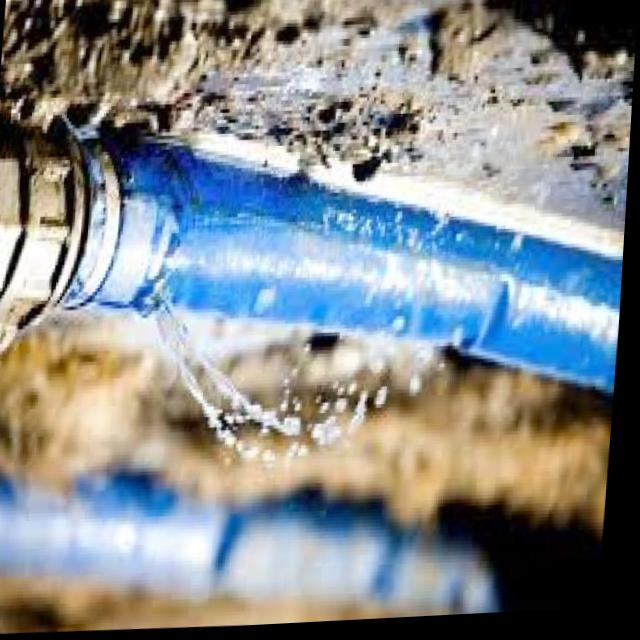leak: (125, 119, 585, 478)
